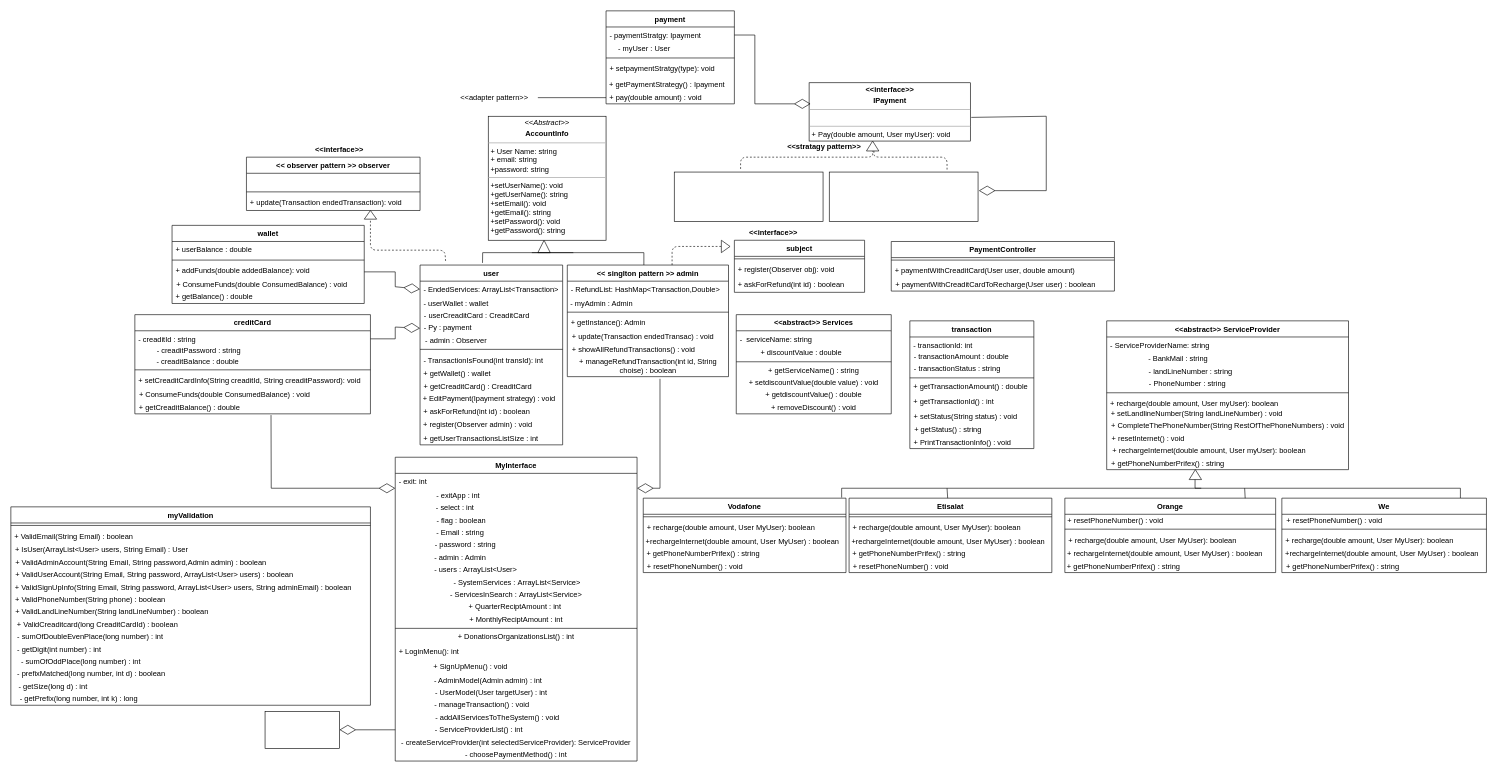
This 1497x772 diagram has some shape labels left out. The centre of each missing label's shape, as x and y in pixels:
<<client >> newProject: (301,730)
CreditCardPayment + Pay(double amount, User myUser): void: (903,196)
WalletPaayment + Pay(double amount, User myUser): void: (748,196)
